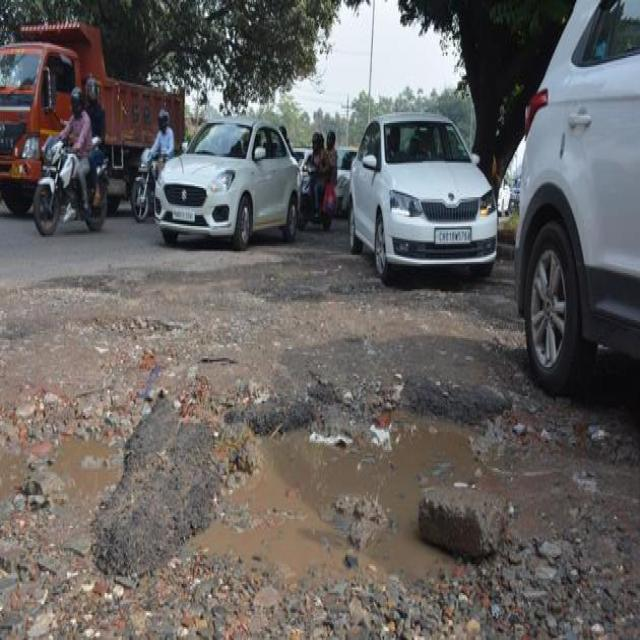car: (350, 113, 496, 279), (155, 116, 299, 249)
motorcycle: (33, 78, 107, 235)
truck: (0, 27, 185, 212)
